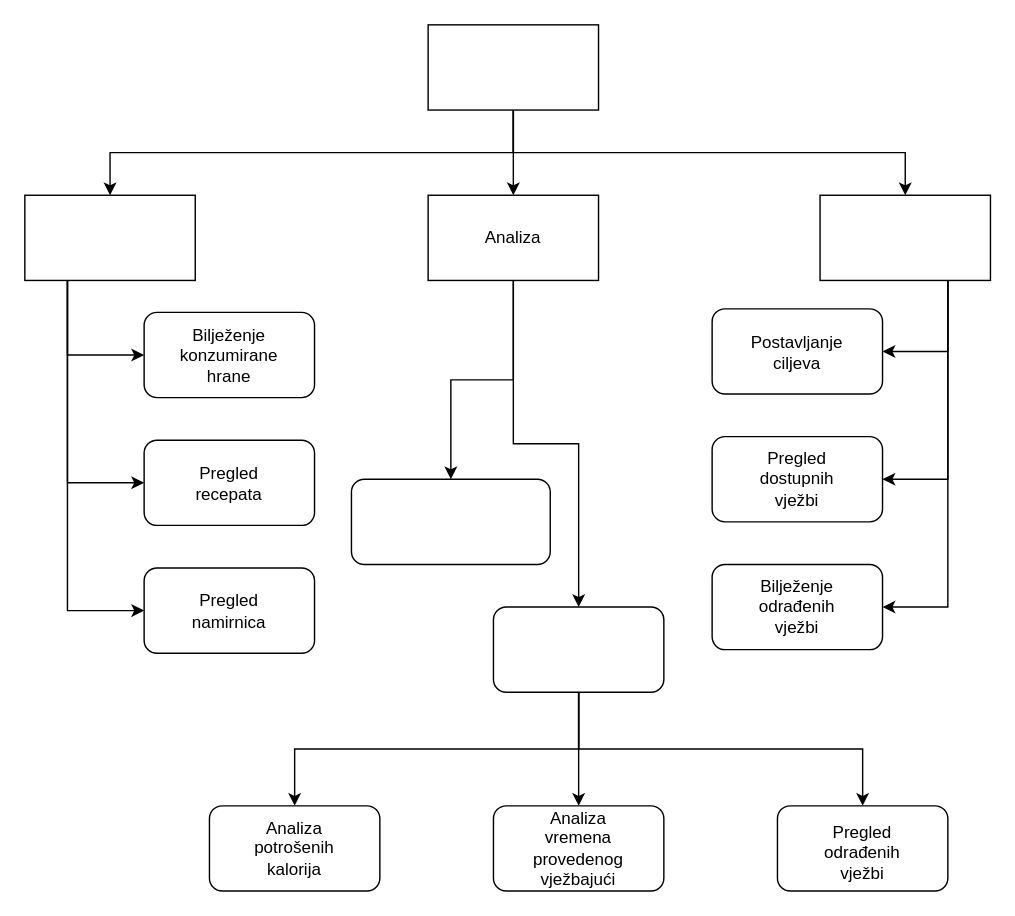
Some shapes in this 1015 by 916 pixel diagram are drawn without their labels. The centre of each missing label's shape, as x and y in pixels:
Analiza konzumiranih kalorija i hranjivih vrijednosti: (450,521)
Analiza odrađenih vježbi: (578,649)
FITNESSIFY: (513,66)
Upravljanje fizičkim aktivnostima: (904,237)
Upravljanje prehranom: (109,237)
